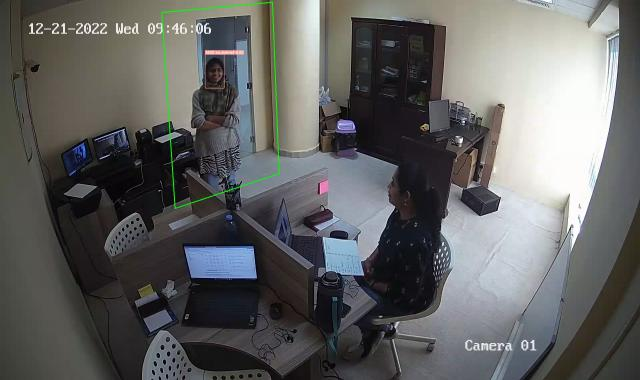no_hairnet: (386, 165, 426, 210), (204, 59, 225, 83)
